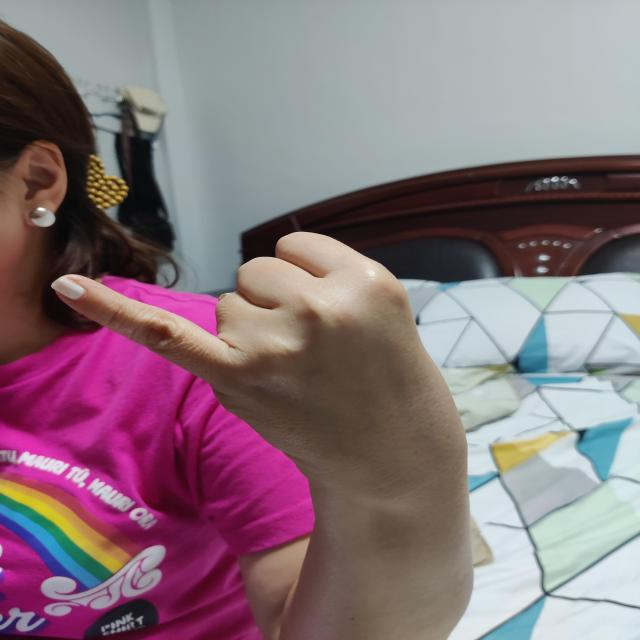J: (49, 230, 467, 480)
